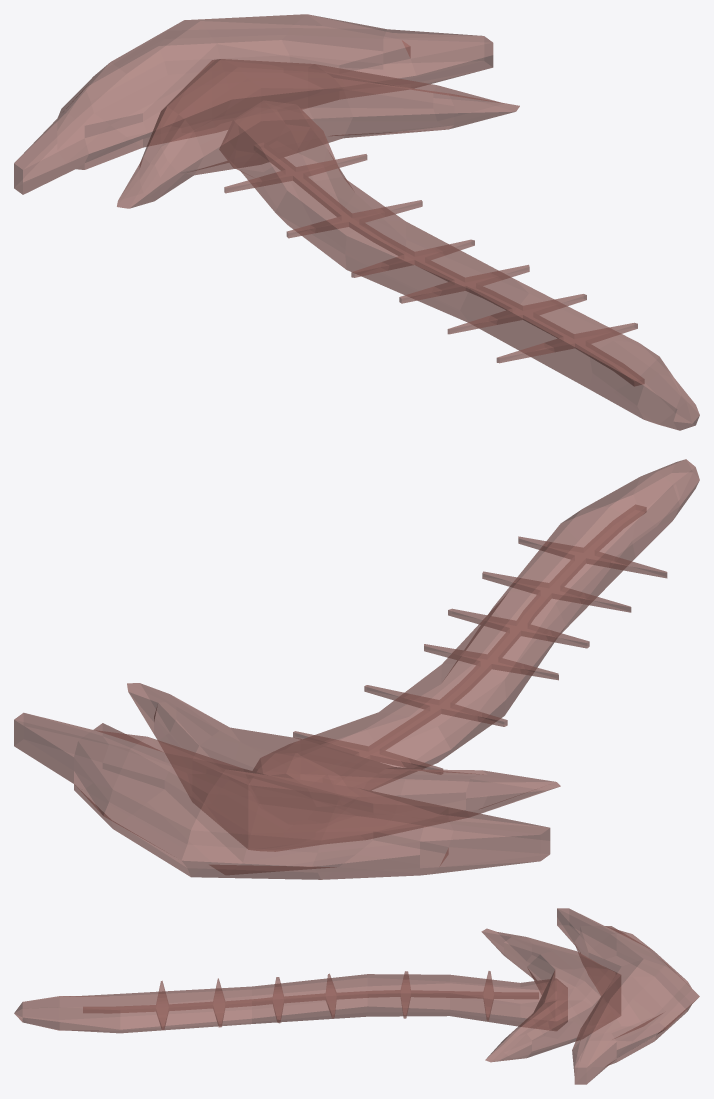
File: creature_test.fbx
3 renders of one model, top to bottom at view 1: azimuth 30°, elevation 25°; view 2: azimuth 150°, elevation 25°; view 3: azimuth 270°, elevation 25°, orthographic. The views are drawn at different scales.
Parts seen in each view (by area): view 1: pCube6; view 2: pCube6; view 3: pCube6.
Part boxes in pixels (x1,y1,x2,y2): pCube6: [14, 14, 699, 430]; pCube6: [14, 459, 699, 879]; pCube6: [14, 908, 699, 1084].
Bounding box in the file's own units: 5.69 × 1.21 × 10.37.
